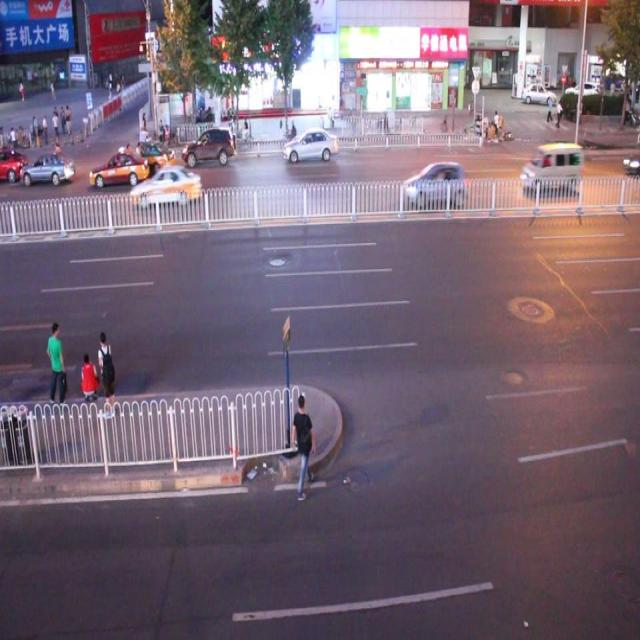car: (402, 158, 462, 208), (128, 168, 200, 205), (90, 151, 147, 187), (282, 127, 337, 163), (182, 128, 235, 164), (22, 150, 75, 185), (125, 138, 176, 170), (1, 145, 27, 181), (620, 141, 640, 177)
truck: (518, 144, 581, 190)
